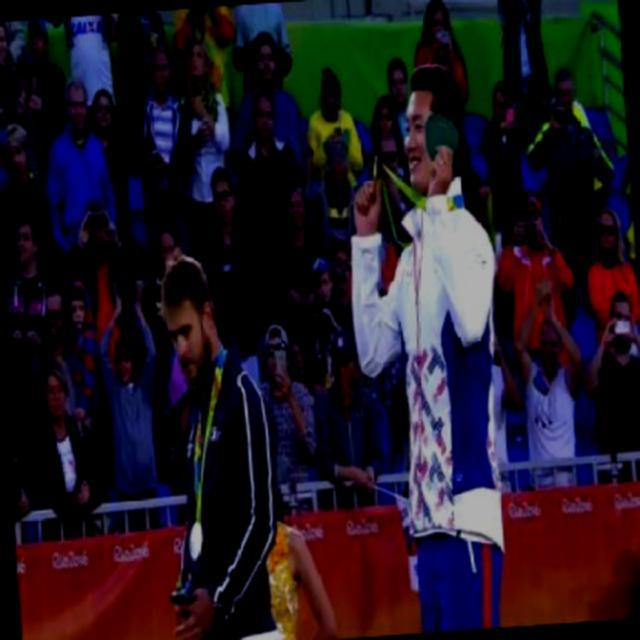non-fight: (338, 57, 518, 636), (143, 243, 289, 639)
